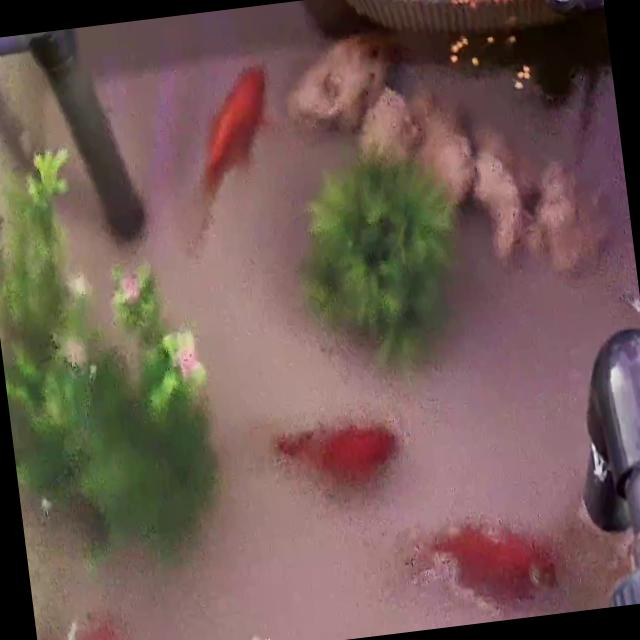fish: (402, 512, 540, 610), (187, 60, 280, 199), (270, 414, 392, 496), (35, 614, 124, 640)
